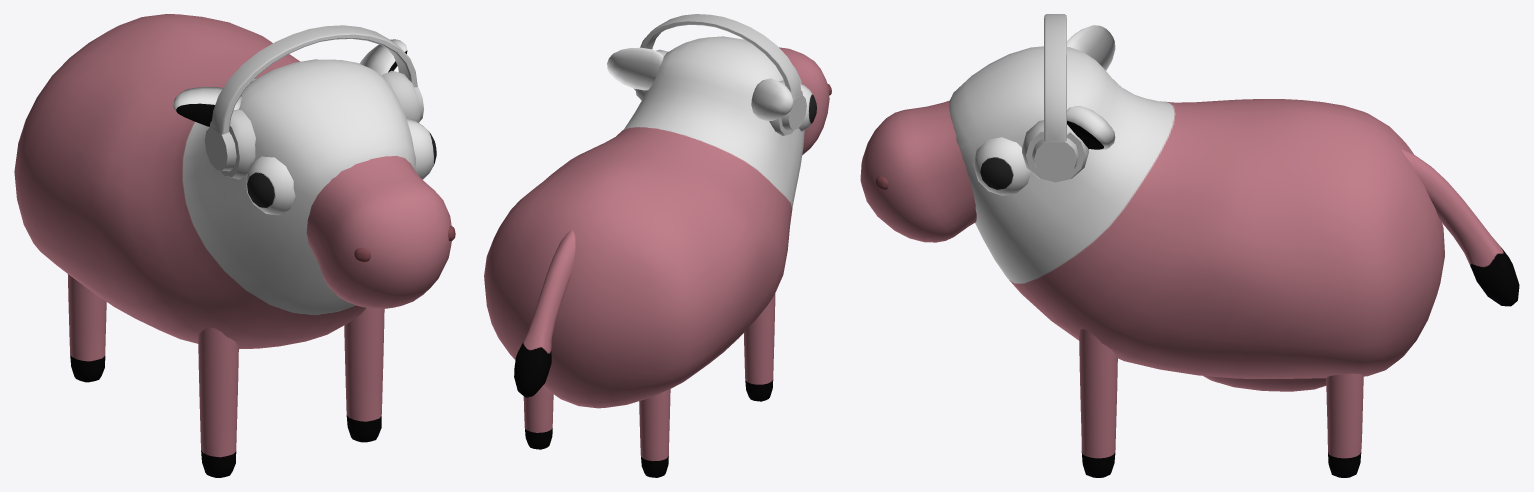
Rendered from Cow_nude.fbx.
3 renders of one model, left to right at view 1: azimuth 30°, elevation 25°; view 2: azimuth 150°, elevation 25°; view 3: azimuth 270°, elevation 25°, orthographic. The views are drawn at different scales.
Visible parts, largest first — view 1: BoNude; view 2: BoNude; view 3: BoNude.
Boxes of the visible parts, x1,y1,x2,y2 form: BoNude: (14, 14, 455, 477); BoNude: (484, 14, 831, 477); BoNude: (860, 14, 1519, 477).
Size of the model in its own units: 238 by 359 by 516.
